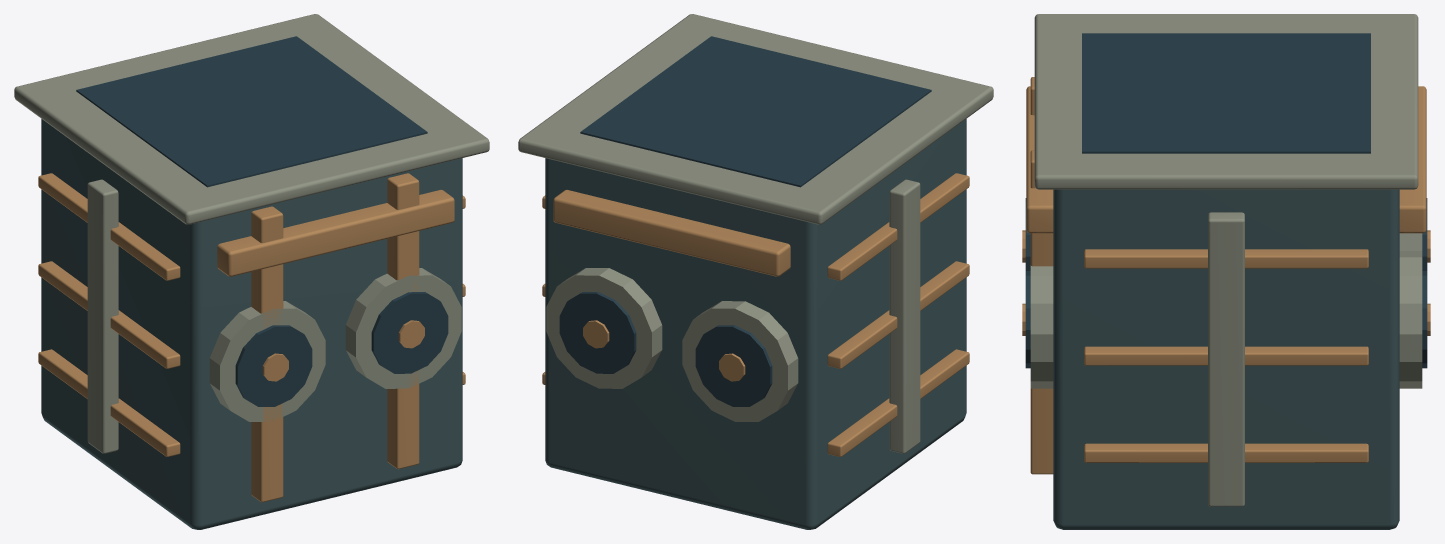
File: pump-top-1.glb
3 views of the same model, side by side, from view 1: azimuth 30°, elevation 25°; view 2: azimuth 150°, elevation 25°; view 3: azimuth 270°, elevation 25° (orthographic). The views are drawn at different scales.
Visible parts, largest first — view 1: pump_0, pump_1, pump_2, pump_3; view 2: pump_0, pump_1, pump_2, pump_3; view 3: pump_0, pump_1, pump_2, pump_3.
Part boxes in pixels (x1,y1,x2,y2): pump_0: [41, 119, 462, 529]; pump_1: [14, 14, 489, 453]; pump_2: [76, 36, 448, 406]; pump_3: [38, 173, 465, 502]; pump_0: [545, 119, 966, 529]; pump_1: [518, 14, 993, 453]; pump_2: [559, 36, 931, 406]; pump_3: [542, 173, 969, 456]; pump_0: [1053, 189, 1399, 529]; pump_1: [1030, 14, 1422, 506]; pump_2: [1025, 33, 1427, 368]; pump_3: [1022, 77, 1430, 474].
Size of the model in its own units: 0.97 by 1 by 0.99.
